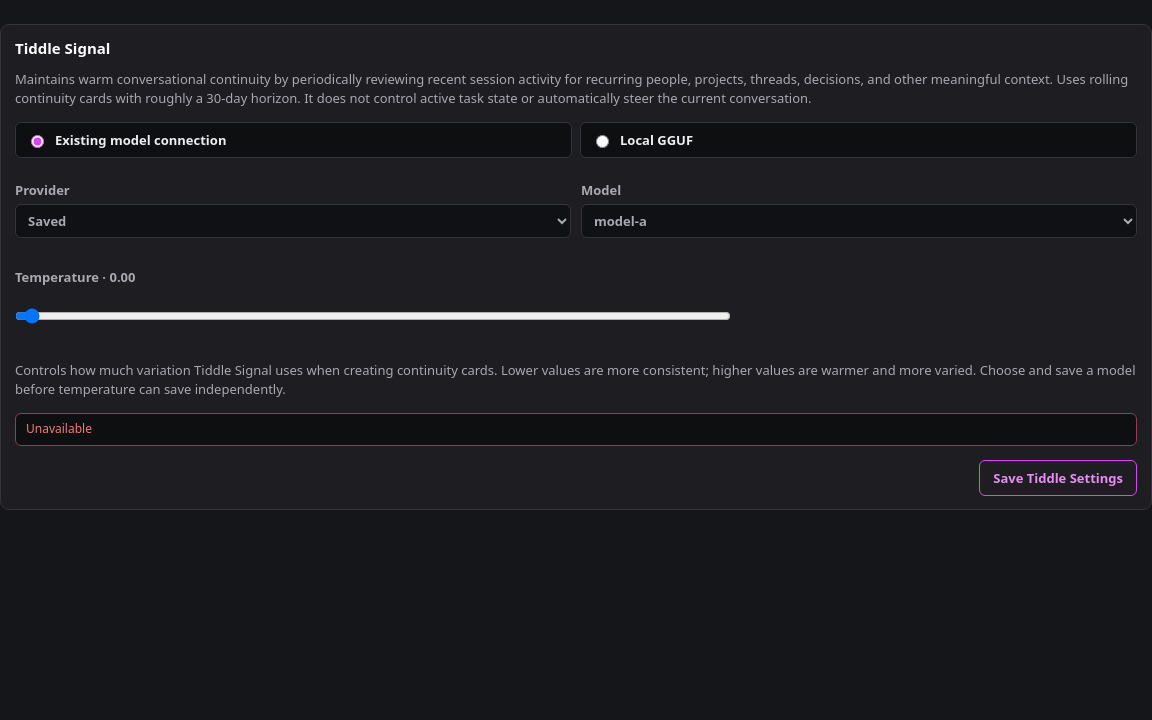
allows an unconfigured read without a selection (null), but never autosaves a model implicitly
Press the mouse on the slider at (373,316), box [15, 299, 731, 333]
Set the slider to "0.3". click: (443,316)
box: [15, 299, 731, 333]
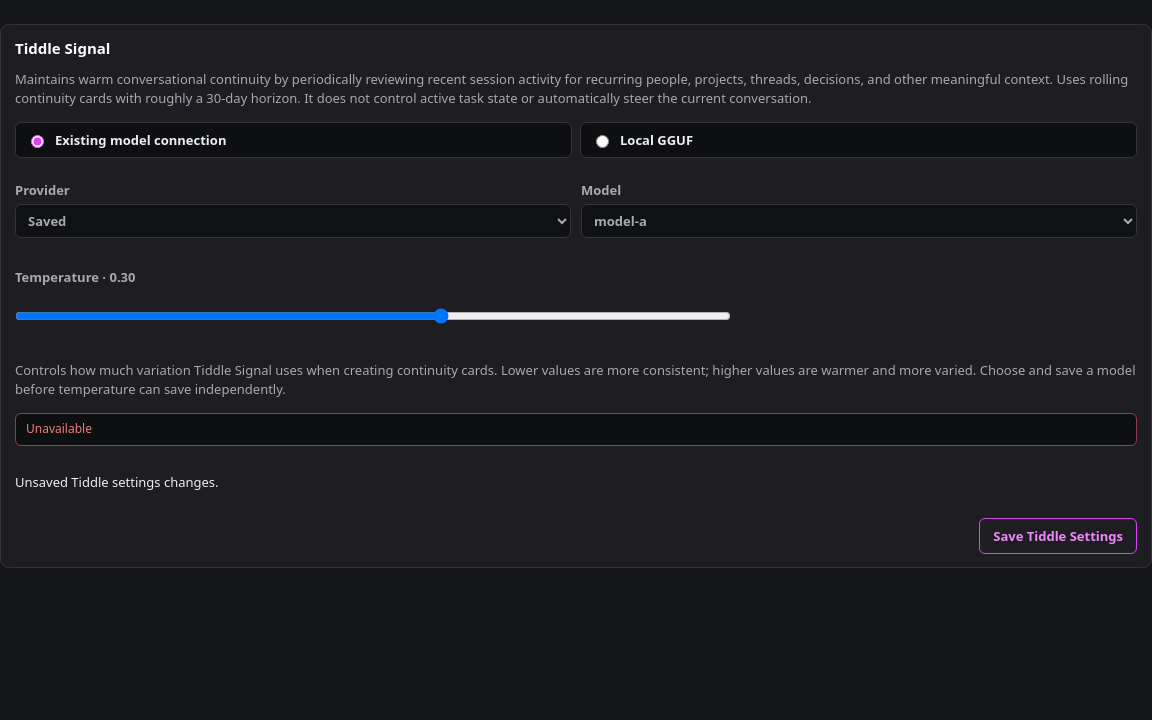
Click the button "Save Tiddle Settings". click: (1058,536)
box: [979, 518, 1137, 554]
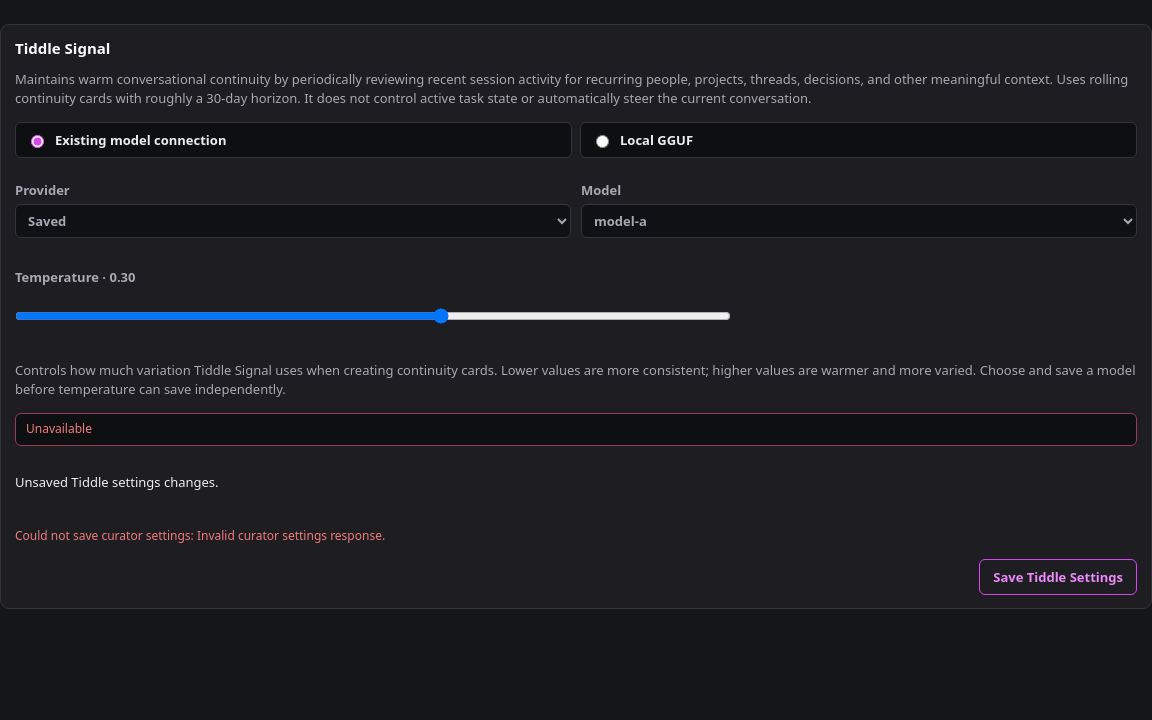
Expected: the button "Save Tiddle Settings" is enabled, [979, 558, 1137, 595]
Expected: the text "Could not save curator settings: Invalid curator settings response." is shown, [15, 527, 385, 544]
